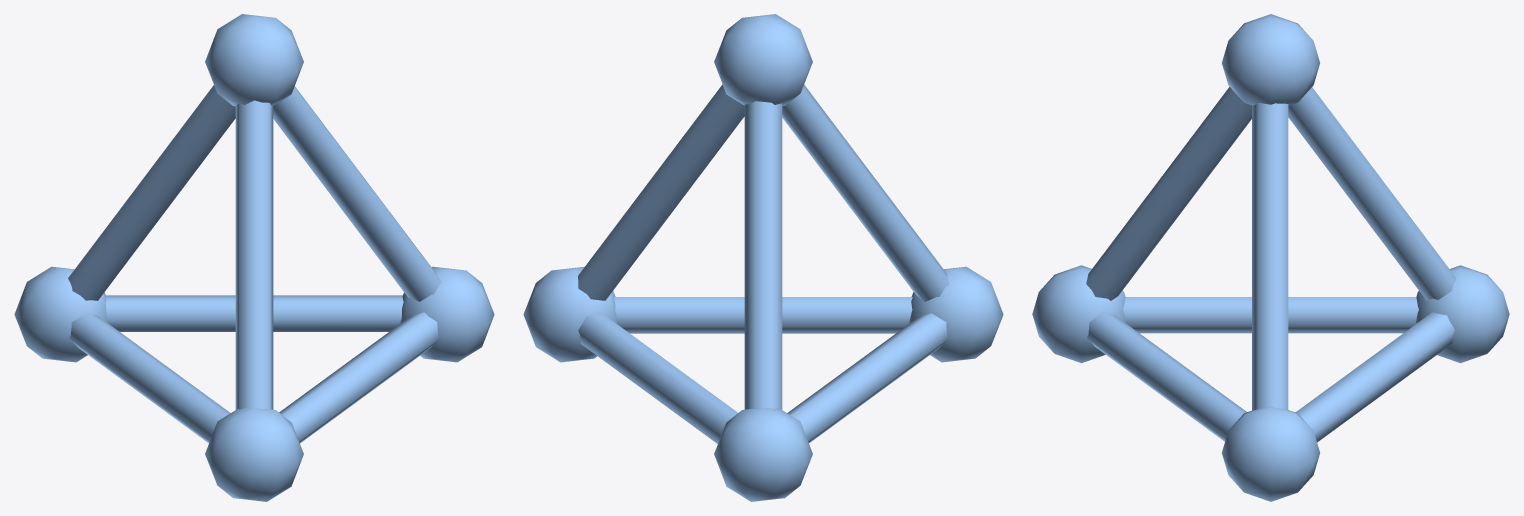
The model's file is TimeBonus.FBX.
3 views of the same model, side by side, from view 1: azimuth 30°, elevation 25°; view 2: azimuth 150°, elevation 25°; view 3: azimuth 270°, elevation 25° (orthographic).
Visible parts, largest first — view 1: TimeBonus; view 2: TimeBonus; view 3: TimeBonus.
Part boxes in pixels (x1=…): TimeBonus: x1=14, y1=14, x2=494, y2=501; TimeBonus: x1=523, y1=14, x2=1003, y2=501; TimeBonus: x1=1032, y1=14, x2=1509, y2=501.
Size of the model in its own units: 78 by 87.28 by 78.
